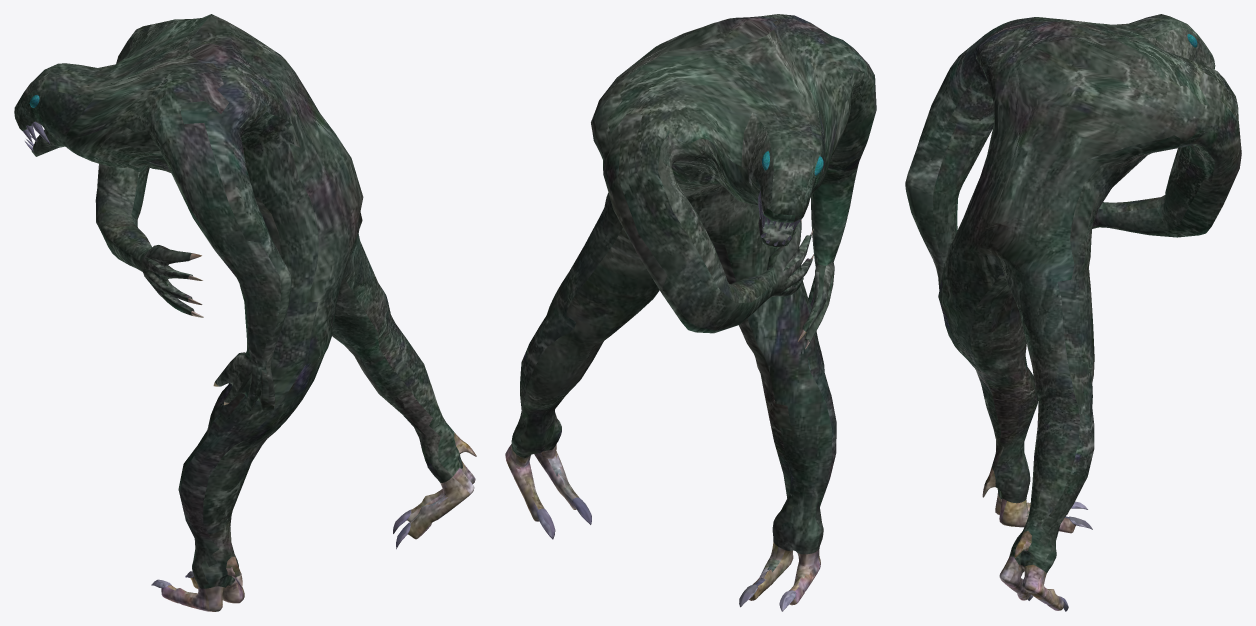
Rendered from Aranar.0012.obj.
3 views of the same model, side by side, from view 1: azimuth 30°, elevation 25°; view 2: azimuth 150°, elevation 25°; view 3: azimuth 270°, elevation 25° (orthographic). The views are drawn at different scales.
Parts seen in each view (by area): view 1: polySurface28; view 2: polySurface28; view 3: polySurface28.
Part boxes in pixels (box(x1,y1,x2,y2)): polySurface28: box(14, 14, 476, 611); polySurface28: box(505, 14, 876, 611); polySurface28: box(905, 14, 1241, 611).
Size of the model in its own units: 1.48 by 2.07 by 1.23.
4 materials, 4 textured.
